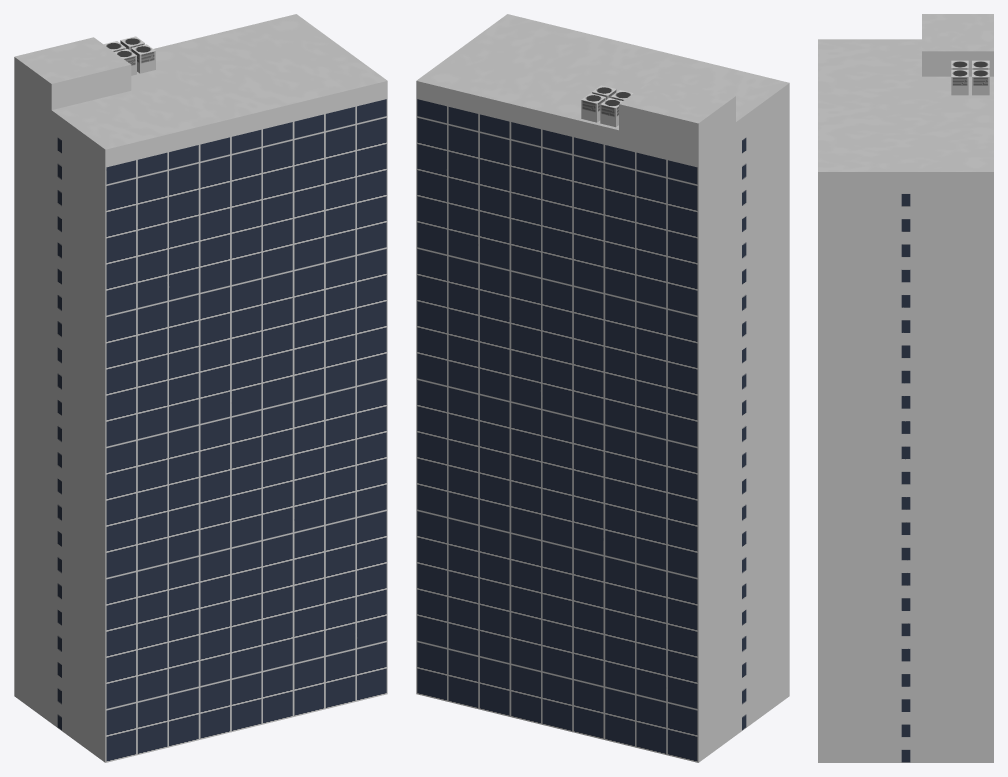
Rendered from Building_M_W5_W2_001.fbx.
3 renders of one model, left to right at view 1: azimuth 30°, elevation 25°; view 2: azimuth 150°, elevation 25°; view 3: azimuth 270°, elevation 25°, orthographic. The views are drawn at different scales.
Visible parts, largest first — view 1: Building_M_W5_W2_001; view 2: Building_M_W5_W2_001; view 3: Building_M_W5_W2_001.
Boxes of the visible parts, x1=… form: Building_M_W5_W2_001: x1=14, y1=14, x2=387, y2=762; Building_M_W5_W2_001: x1=416, y1=14, x2=789, y2=762; Building_M_W5_W2_001: x1=818, y1=14, x2=993, y2=762.
Bounding box in the file's own units: 49.64 × 107 × 27.8.
